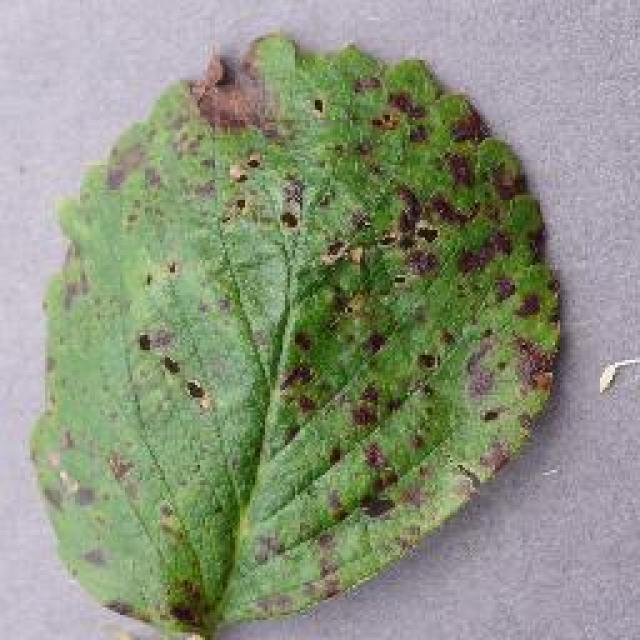Strawberry leaf scorch: (132, 52, 533, 560)
